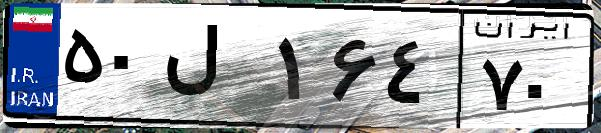0: (525, 38, 570, 115), (110, 28, 158, 98)
1: (270, 28, 330, 110)
4: (385, 28, 445, 110)
5: (57, 26, 110, 100)
6: (330, 28, 385, 110)
7: (475, 38, 525, 113)
ل: (158, 20, 270, 120)
